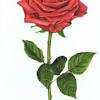rose: (16, 1, 92, 36)
